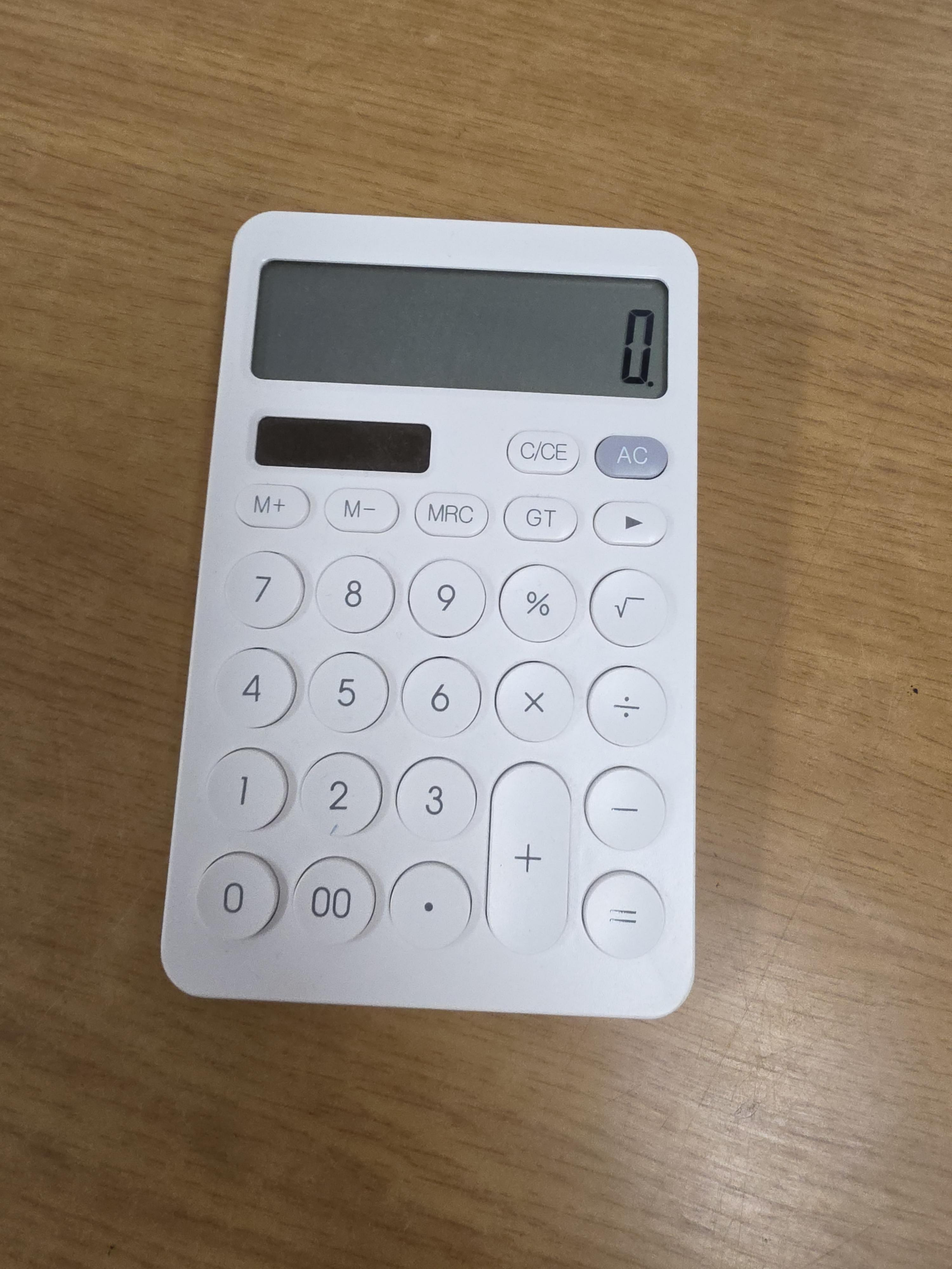calculator: (159, 211, 699, 1019)
